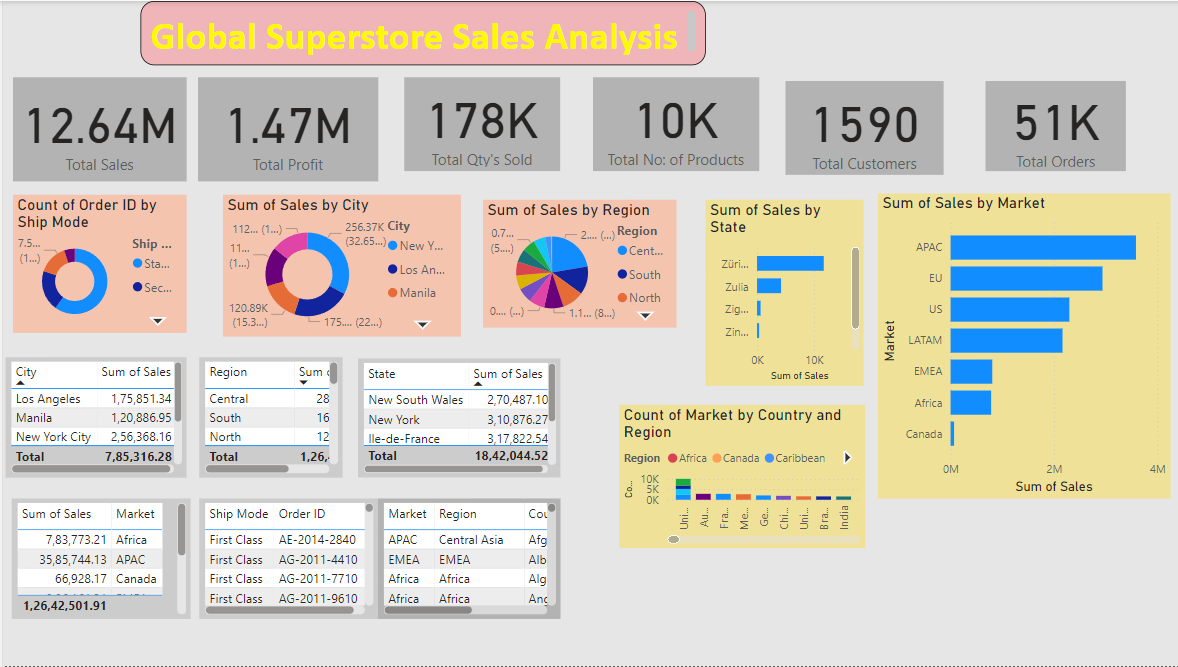

The page's visual inventory and layout, read from the dashboard file:
{"tool":"powerbi","page":{"name":"Page 1","canvas":[1280,720],"ordinal":0},"visuals":[{"type":"card","fields":{"Values":["Orders.Total Sales"]},"box":[11,82.3,188,112.5],"z":0},{"type":"card","fields":{"Values":["Orders.Total Profit"]},"box":[211.3,82.3,194.9,112.5],"z":1000},{"type":"card","fields":{"Values":["Orders.Total Qty's Sold"]},"box":[435,82.3,168.8,101.5],"z":2000},{"type":"card","fields":{"Values":["Orders.Total No: of Products"]},"box":[639.5,82.3,179.8,101.5],"z":3000},{"type":"card","fields":{"Values":["Orders.Total Customers"]},"box":[846.7,86.4,171.5,101.5],"z":4000},{"type":"card","fields":{"Values":["Orders.Total Orders"]},"box":[1063.5,86.4,152.3,97.4],"z":5000},{"type":"donutChart","fields":{"Category":["Orders.Ship Mode"],"Y":["CountNonNull(Orders.Order ID)"]},"box":[11,209.9,188,149.6],"z":6000},{"type":"barChart","fields":{"Category":["Orders.Market"],"Y":["Sum(Orders.Sales)"]},"box":[947.3,208.4,316.7,330.2],"z":7000},{"type":"donutChart","fields":{"Category":["Orders.City"],"Y":["Sum(Orders.Sales)"]},"box":[238.8,209.9,258,153.7],"z":8000},{"type":"columnChart","fields":{"Category":["Orders.Country"],"Series":["Orders.Region"],"Y":["CountNonNull(Orders.Market)"]},"box":[666.9,437.7,266.2,155.1],"z":9000},{"type":"clusteredBarChart","fields":{"Category":["Orders.State"],"Y":["Sum(Orders.Sales)"]},"box":[760.2,215.4,171.5,201.7],"z":10000},{"type":"tableEx","fields":{"Values":["Orders.State","Sum(Orders.Sales)"]},"box":[384.2,387,219.6,129],"z":11000},{"type":"pieChart","fields":{"Category":["Orders.Region"],"Y":["Sum(Orders.Sales)"]},"box":[520.1,215.4,209.9,138.6],"z":12000},{"type":"tableEx","fields":{"Values":["Orders.City","Sum(Orders.Sales)"]},"box":[2.7,385.6,196.2,130.4],"z":13000},{"type":"textbox","box":[148.2,0,612,70],"z":14000},{"type":"tableEx","fields":{"Values":["Sum(Orders.Sales)","Orders.Market"]},"box":[9.6,539.3,193.5,130.4],"z":15000},{"type":"tableEx","fields":{"Values":["Orders.Ship Mode","Orders.Order ID"]},"box":[212.7,539.3,193.5,130.4],"z":16000},{"type":"tableEx","fields":{"Values":["Orders.Region","Sum(Orders.Sales)"]},"box":[212.7,385.6,155.1,130.4],"z":17000},{"type":"tableEx","fields":{"Values":["Orders.Market","Orders.Region","Orders.Country"]},"box":[406.2,539.3,197.6,130.4],"z":18000}]}

Visuals, with their boxes in screenshot pixels (x1, y1, x2, y2), scaled from the page's 1280x720 canvas onto the 1178x667 screenshot:
card - Orders.Total Sales: l=10, t=76, r=183, b=180
card - Orders.Total Profit: l=194, t=76, r=374, b=180
card - Orders.Total Qty's Sold: l=400, t=76, r=556, b=170
card - Orders.Total No: of Products: l=589, t=76, r=754, b=170
card - Orders.Total Customers: l=779, t=80, r=937, b=174
card - Orders.Total Orders: l=979, t=80, r=1119, b=170
donutChart - Orders.Ship Mode x CountNonNull(Orders.Order ID): l=10, t=194, r=183, b=333
barChart - Orders.Market x Sum(Orders.Sales): l=872, t=193, r=1163, b=499
donutChart - Orders.City x Sum(Orders.Sales): l=220, t=194, r=457, b=337
columnChart - Orders.Country x Orders.Region: l=614, t=405, r=859, b=549
clusteredBarChart - Orders.State x Sum(Orders.Sales): l=700, t=200, r=857, b=386
tableEx - Orders.State x Sum(Orders.Sales): l=354, t=359, r=556, b=478
pieChart - Orders.Region x Sum(Orders.Sales): l=479, t=200, r=672, b=328
tableEx - Orders.City x Sum(Orders.Sales): l=2, t=357, r=183, b=478
textbox: l=136, t=0, r=700, b=65
tableEx - Sum(Orders.Sales) x Orders.Market: l=9, t=500, r=187, b=620
tableEx - Orders.Ship Mode x Orders.Order ID: l=196, t=500, r=374, b=620
tableEx - Orders.Region x Sum(Orders.Sales): l=196, t=357, r=338, b=478
tableEx - Orders.Market x Orders.Region: l=374, t=500, r=556, b=620
